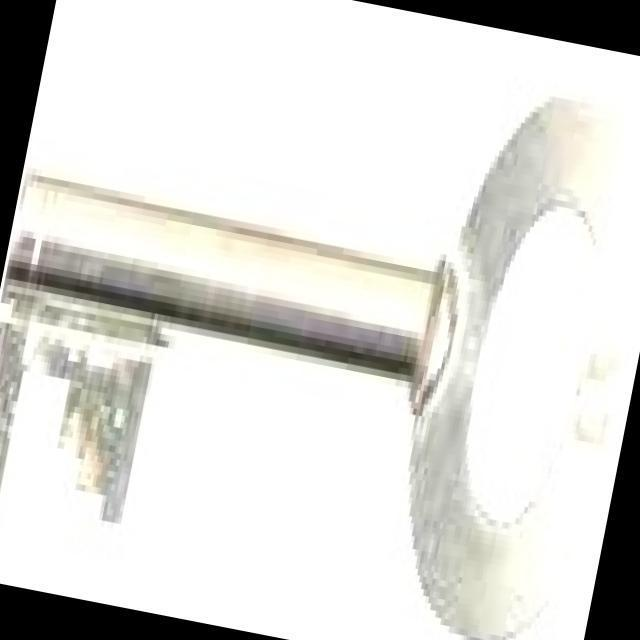Keys: (1, 89, 640, 639)
